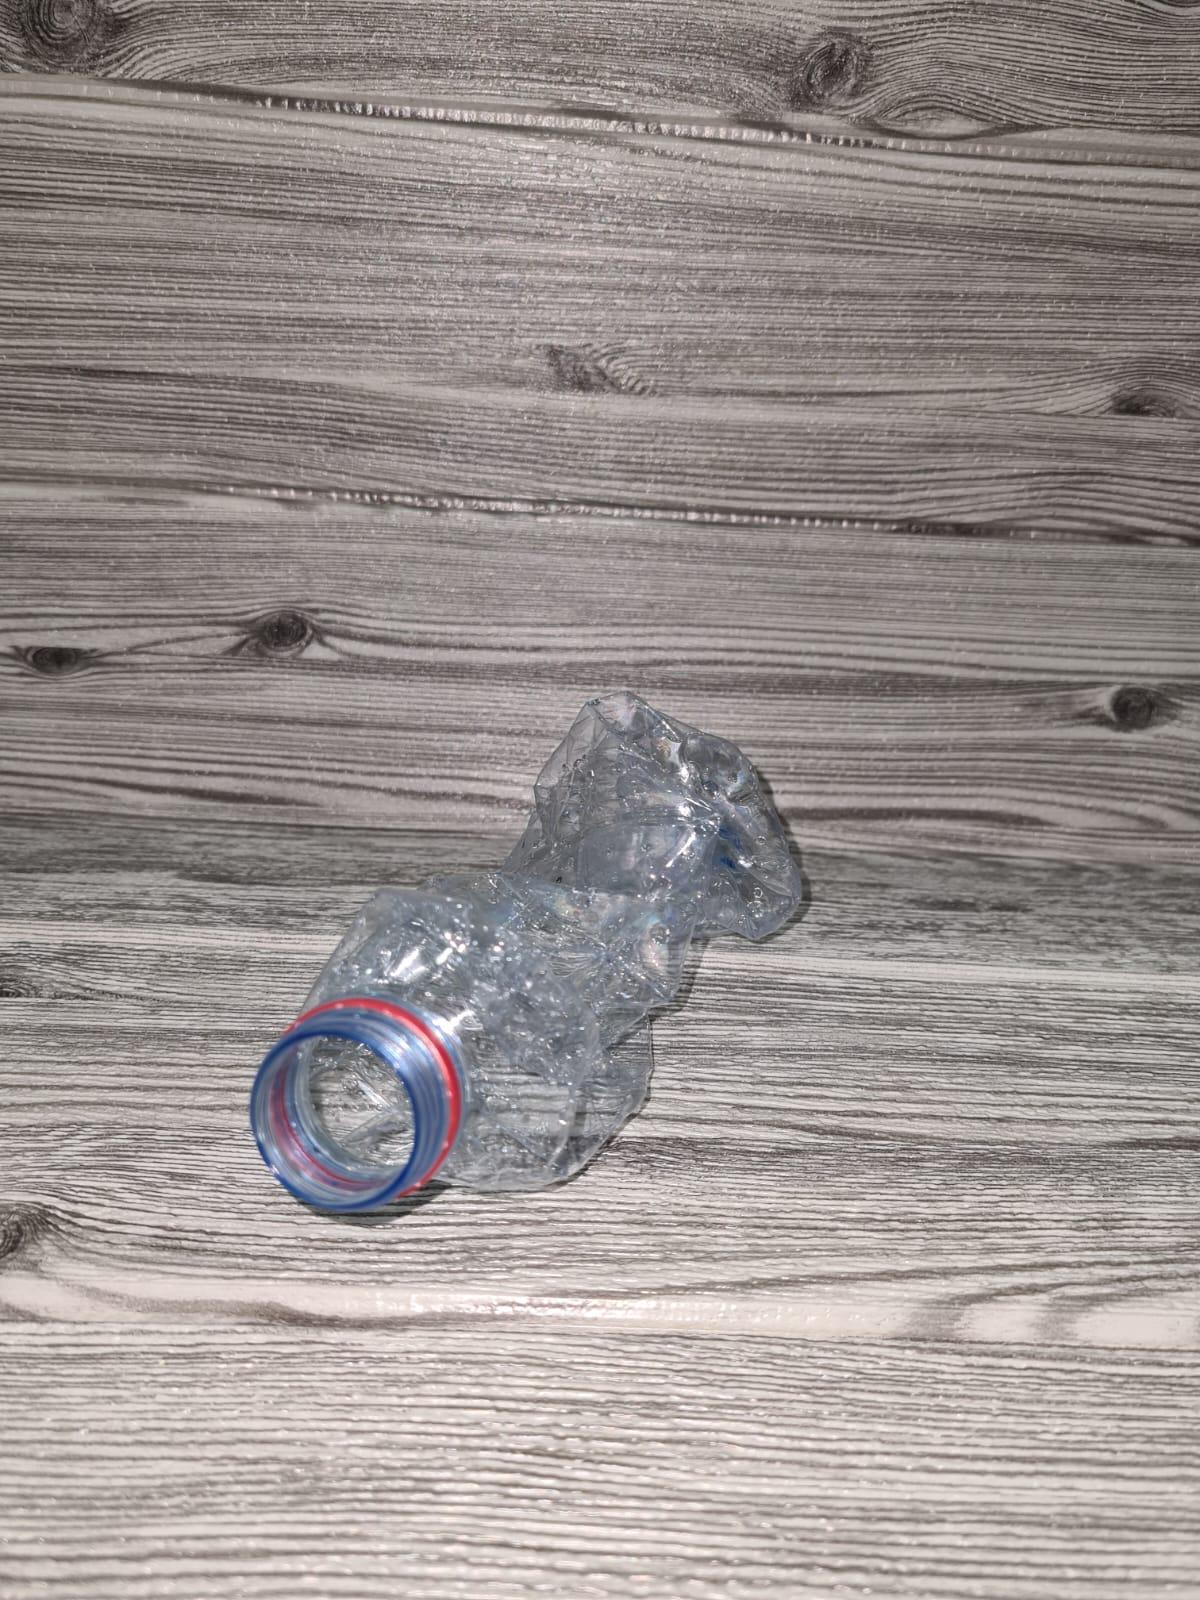bottle: (260, 700, 800, 1221)
